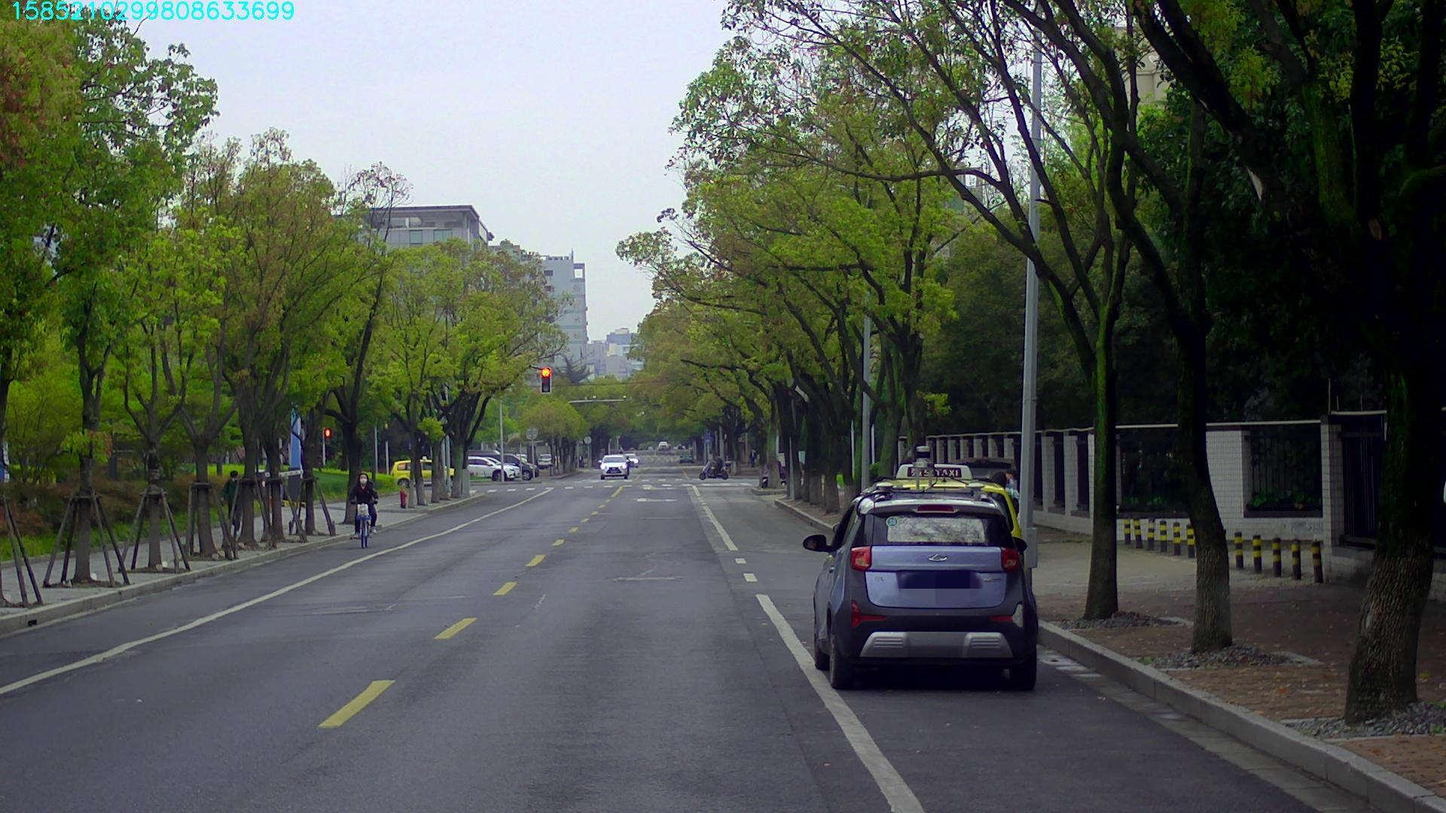red: (541, 367, 550, 393)
